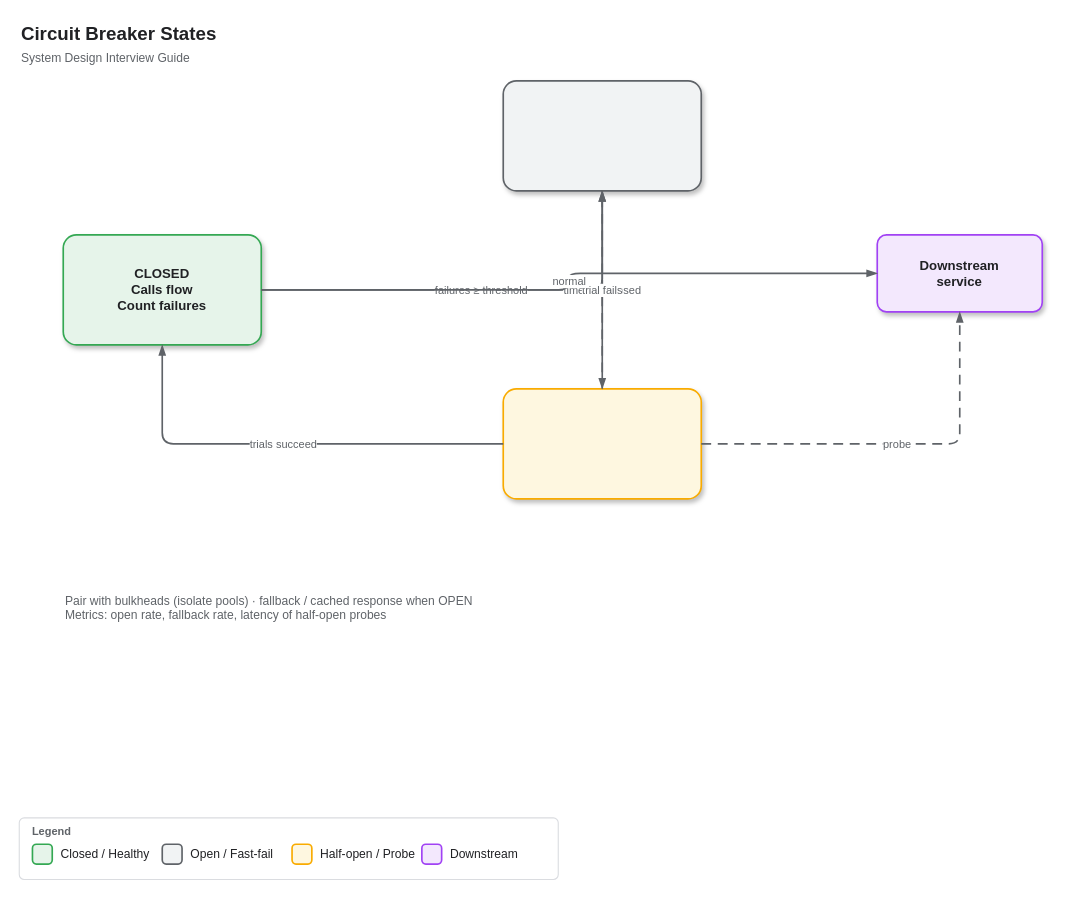
Some shapes in this 1069 by 899 pixel diagram are drawn without their labels. The centre of each missing label's shape, as x and y in pixels:
"HALF-OPEN Trial requests" belongs at (x=603, y=445).
"OPEN Fail fast (no calls)" belongs at (x=603, y=137).
